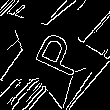P_NW: (20, 26, 83, 80)
